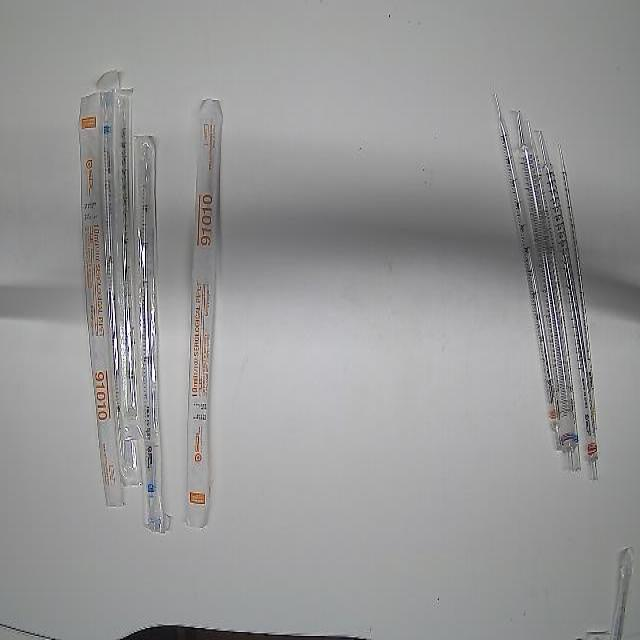Serelogical Pipet 1 mL: (554, 135, 600, 435)
Serelogical Pipet 10 mL: (489, 90, 566, 455)
Serelogical Pipet 10 mL - Sealed: (74, 89, 130, 516), (187, 93, 222, 530)
Serelogical Pipet 2 mL - Sealed: (106, 82, 147, 442)
Serelogical Pipet 25 mL: (534, 123, 600, 482)
Serelogical Pipet 5 mL: (524, 113, 584, 475)
Serelogical Pipet 5 mL - Sealed: (92, 64, 144, 487), (128, 129, 175, 534)
Serelogical Pipet 50 mL: (514, 104, 581, 456)
